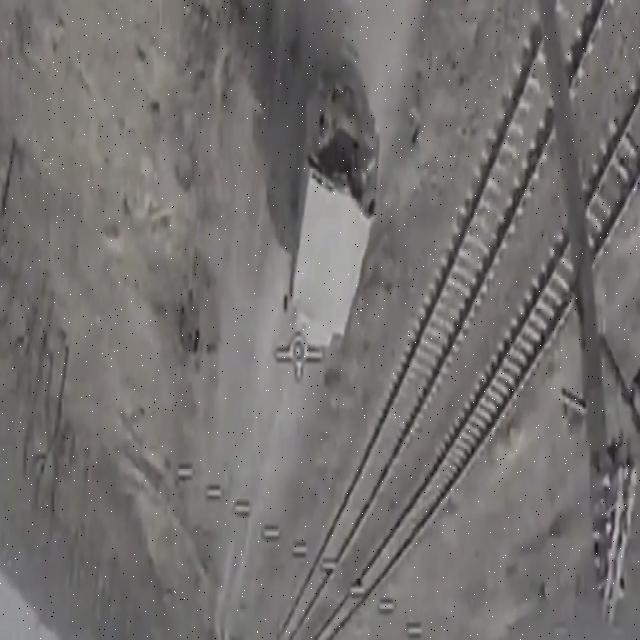CAR: (278, 84, 382, 348)
